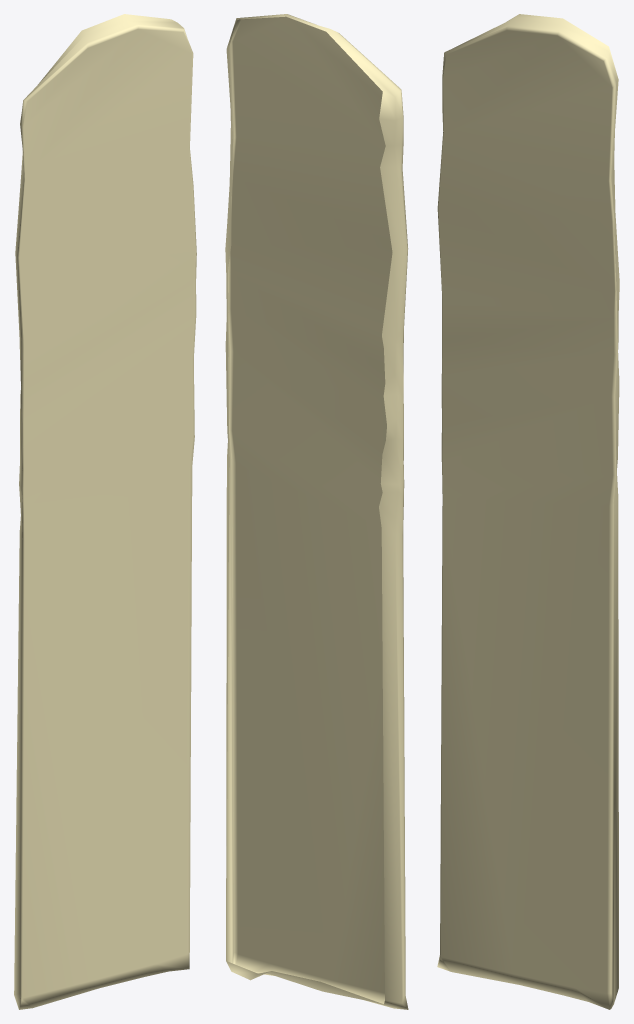
File: ui_bg_monolith.glb
3 renders of one model, left to right at view 1: azimuth 30°, elevation 25°; view 2: azimuth 150°, elevation 25°; view 3: azimuth 330°, elevation 25°, orthographic.
Parts seen in each view (by area): view 1: Cube; view 2: Cube; view 3: Cube.
Part boxes in pixels (x1=…): Cube: x1=14, y1=14, x2=196, y2=1009; Cube: x1=225, y1=14, x2=408, y2=1009; Cube: x1=437, y1=14, x2=619, y2=1009.
Size of the model in its own units: 0.7194 by 3.73 by 0.0702.
